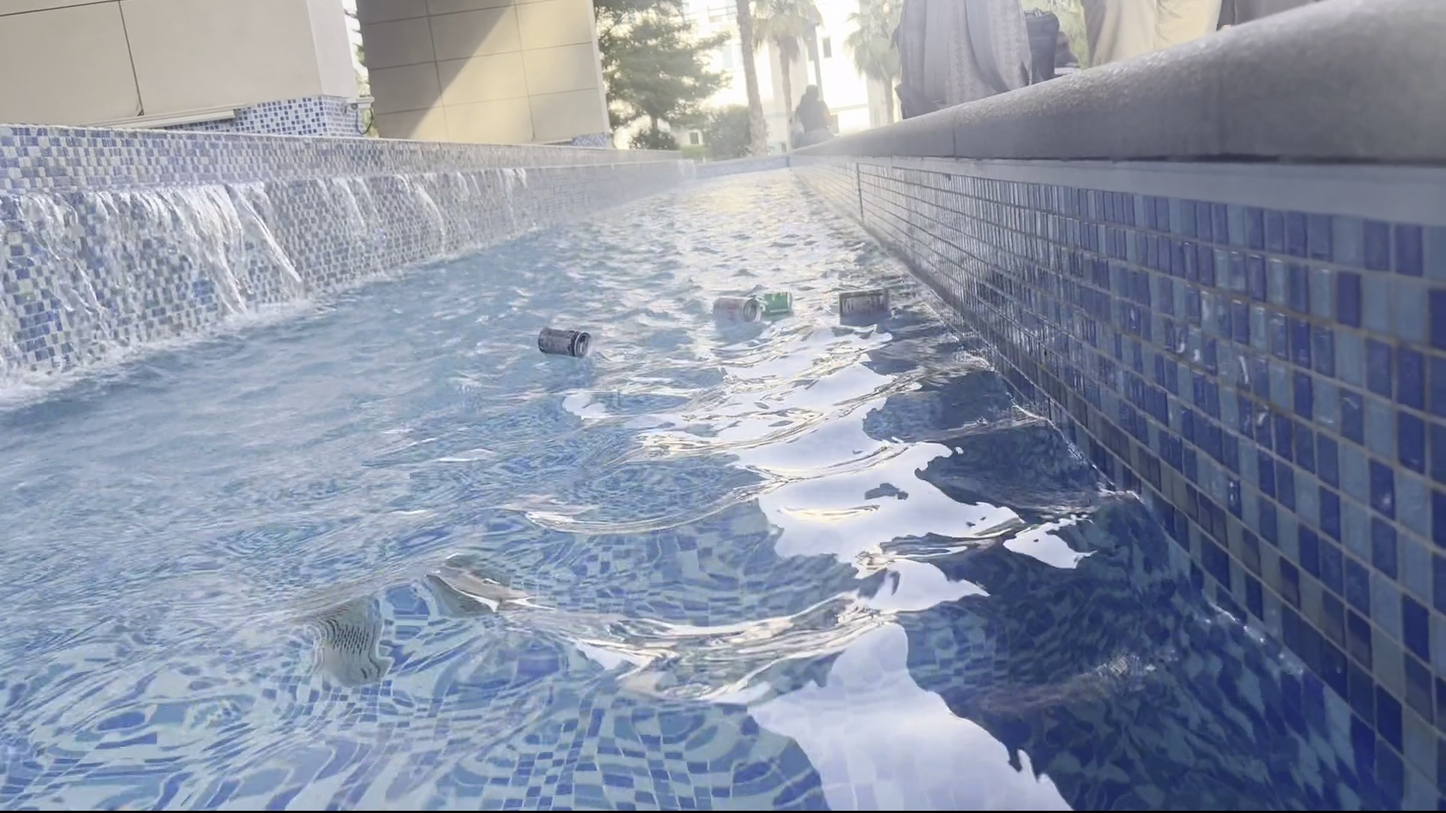debris: (535, 321, 596, 362), (831, 286, 894, 316), (711, 291, 762, 326), (743, 287, 797, 318)
